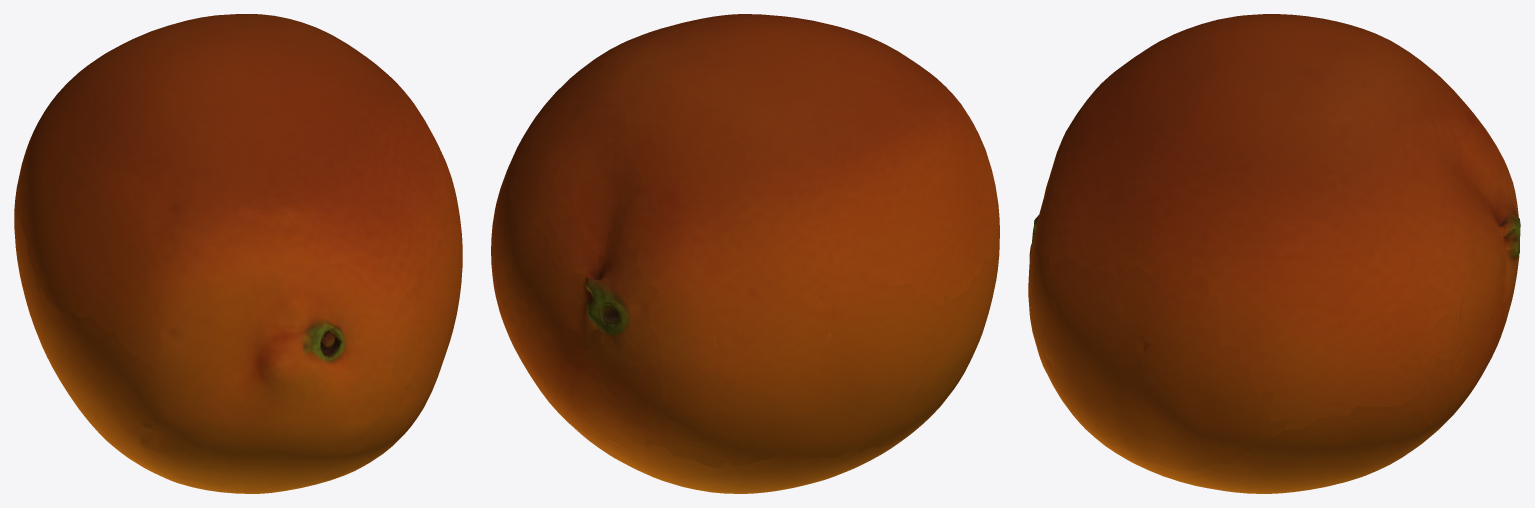
Rendered from orange.obj.
3 views of the same model, side by side, from view 1: azimuth 30°, elevation 25°; view 2: azimuth 150°, elevation 25°; view 3: azimuth 270°, elevation 25° (orthographic). The views are drawn at different scales.
Size of the model in its own units: 0.0807 by 0.0817 by 0.0848.
1 material, 1 textured.
